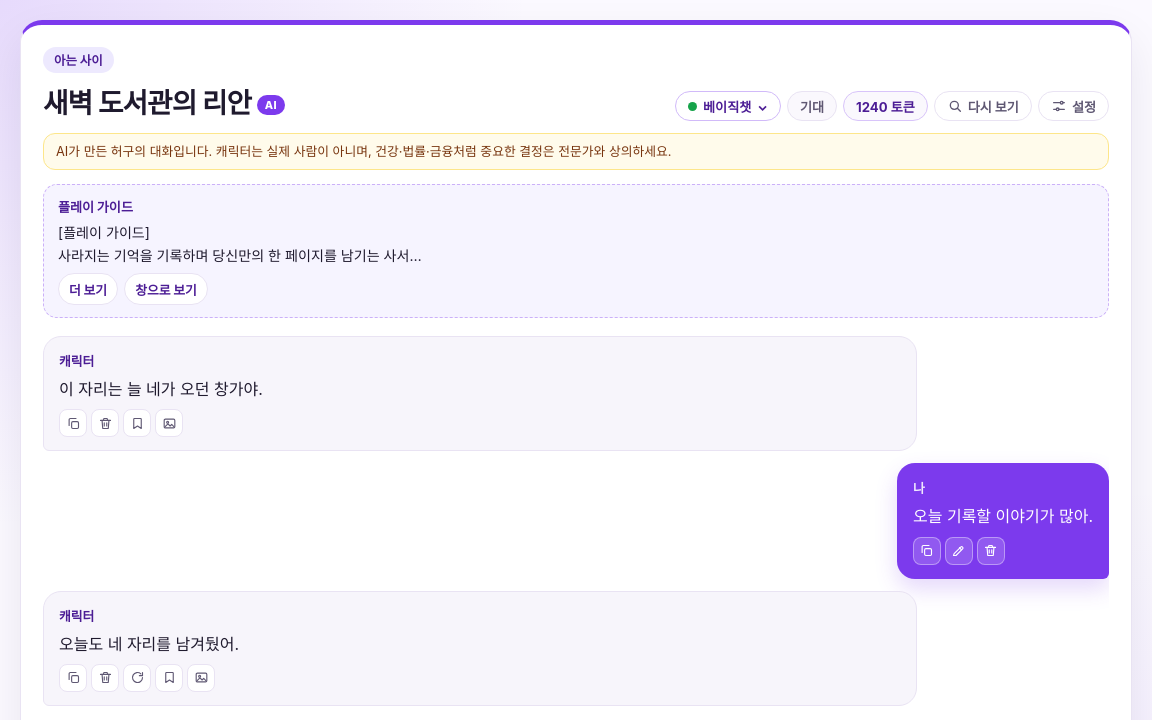
채팅 화면 배치와 채팅방 설정 패널 › 모바일 배치에서는 서랍으로 열고 Esc로 닫으면 열기 버튼으로 초점이 돌아온다
The width and height of the screenshot is (1152, 720).
Click the button with aria-label "채팅방 설정 열기와 닫기" at (1073, 106), box x1=1038 y1=91 x2=1109 y2=121
(page scrolled)
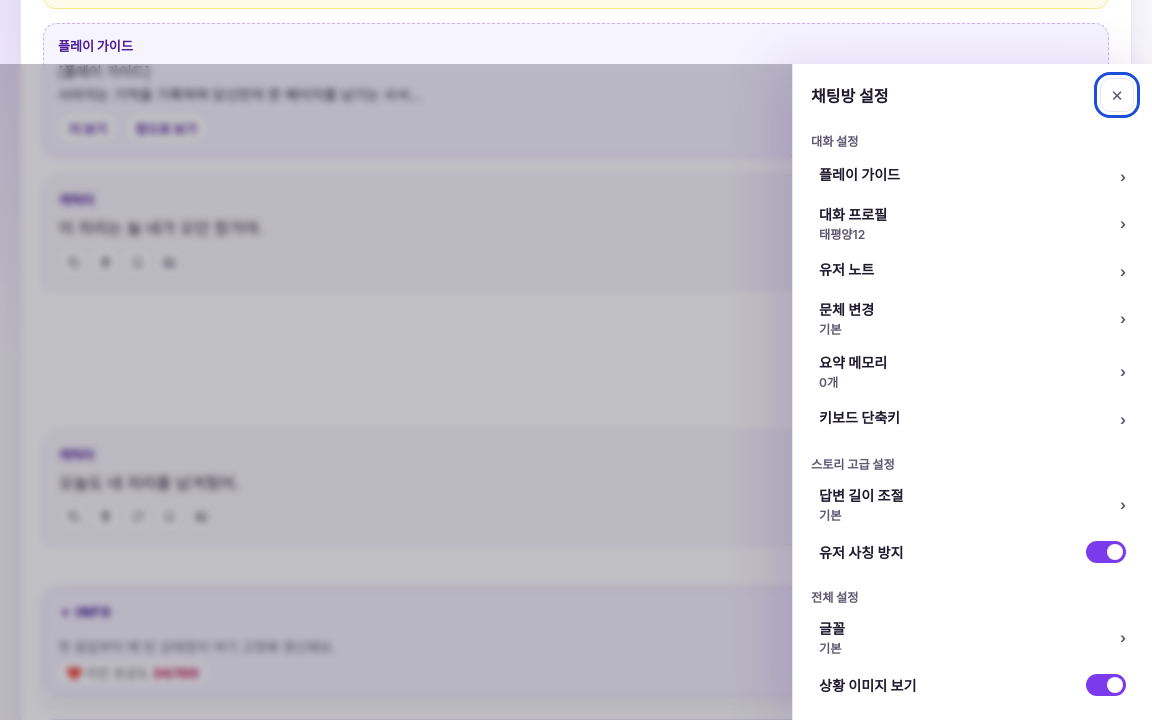
Press Escape
(page scrolled)
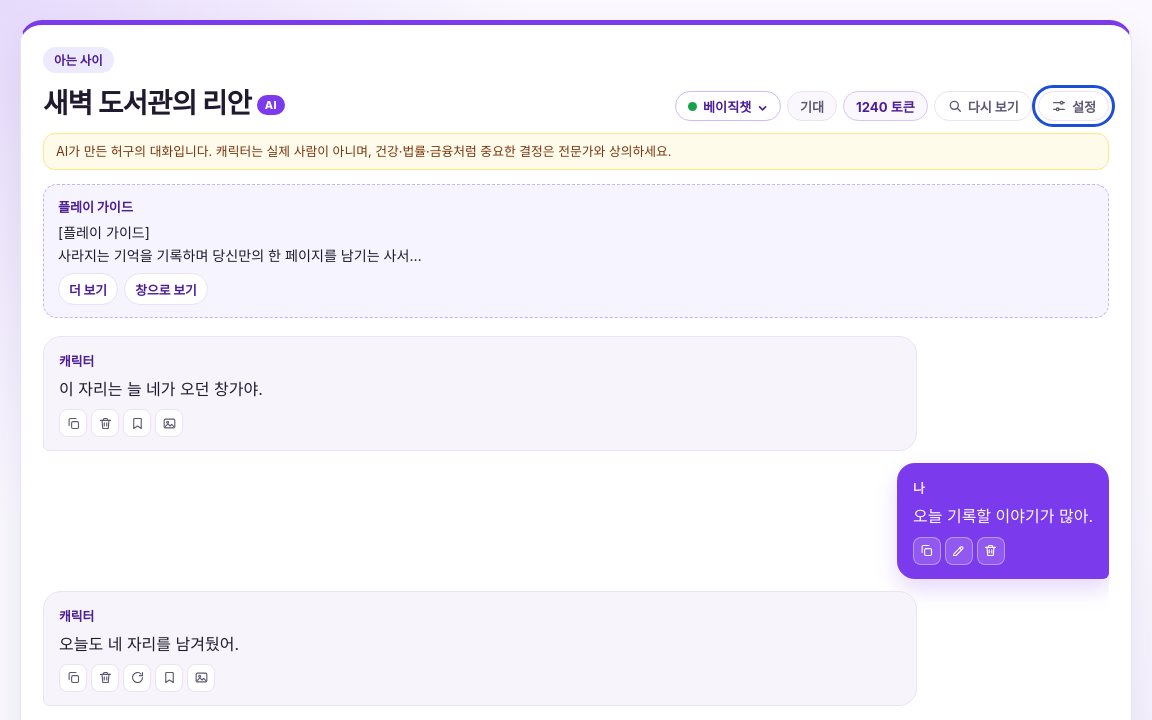
expect the button with aria-label "채팅방 설정 열기와 닫기" is collapsed: met, box x1=1038 y1=91 x2=1109 y2=121
